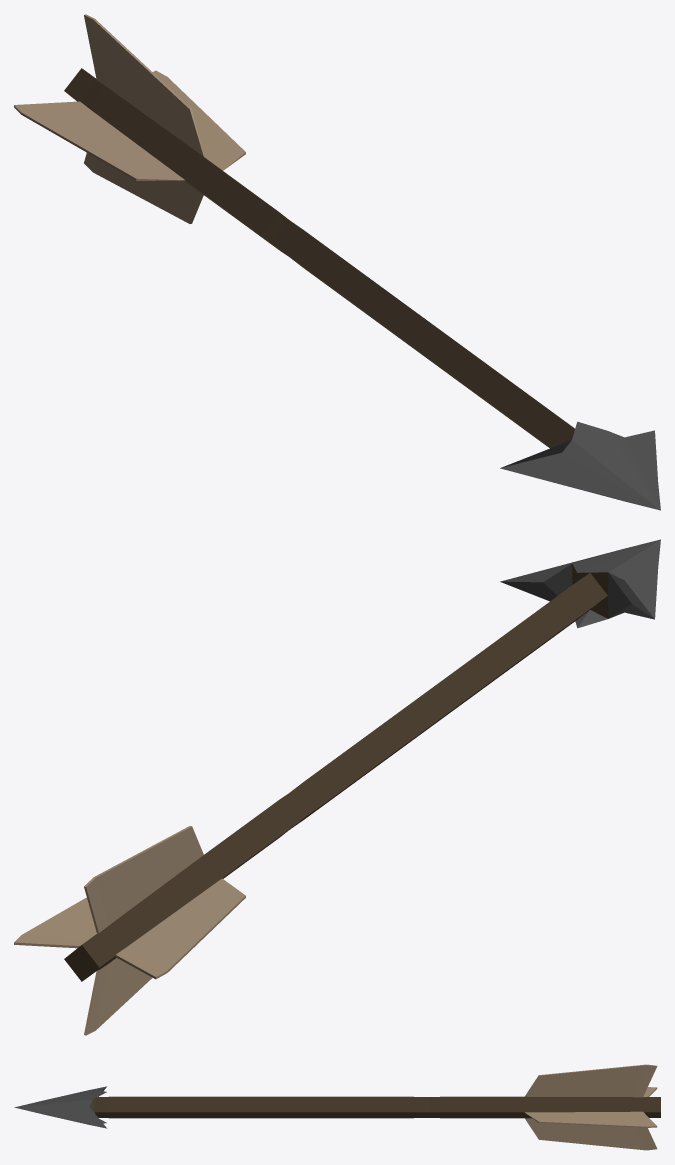
File: Arrow.fbx
The picture shows the model from 3 angles, top to bottom: view 1: azimuth 30°, elevation 25°; view 2: azimuth 150°, elevation 25°; view 3: azimuth 270°, elevation 25°; orthographic projection. The views are drawn at different scales.
Visible parts, largest first — view 1: Arrow; view 2: Arrow; view 3: Arrow.
Part boxes in pixels (x1,y1,x2,y2): Arrow: (14,14,660,510); Arrow: (14,539,660,1035); Arrow: (14,1064,660,1150).
Bounding box in the file's own units: 13.93 × 13.11 × 90.
